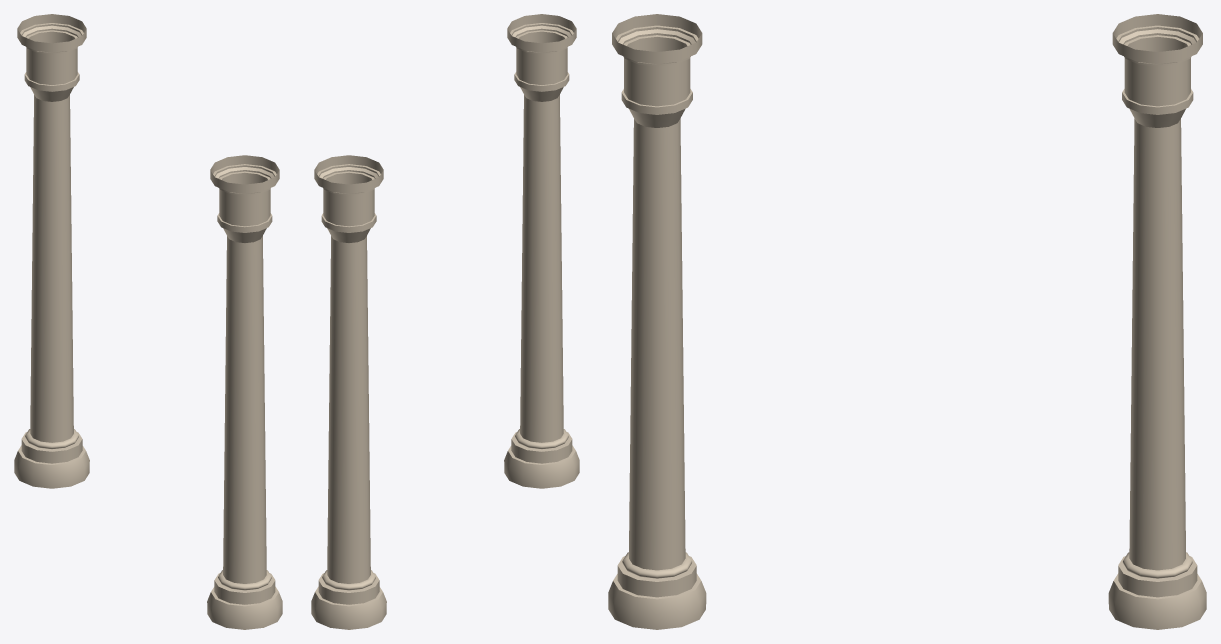
The model's file is E01_2column.fbx.
The picture shows the model from 3 angles, left to right: view 1: azimuth 30°, elevation 25°; view 2: azimuth 150°, elevation 25°; view 3: azimuth 270°, elevation 25°; orthographic projection. The views are drawn at different scales.
Parts seen in each view (by area): view 1: E01_column_half, E01_column_half_2; view 2: E01_column_half_2, E01_column_half; view 3: E01_column_half, E01_column_half_2.
Boxes of the visible parts, x1,y1,x2,y2 form: E01_column_half: [14, 14, 89, 488]; E01_column_half_2: [207, 155, 282, 629]; E01_column_half_2: [504, 14, 579, 488]; E01_column_half: [311, 155, 386, 629]; E01_column_half: [1108, 14, 1206, 629]; E01_column_half_2: [608, 14, 706, 629].
Bounding box in the file's own units: 46.17 × 300 × 282.
